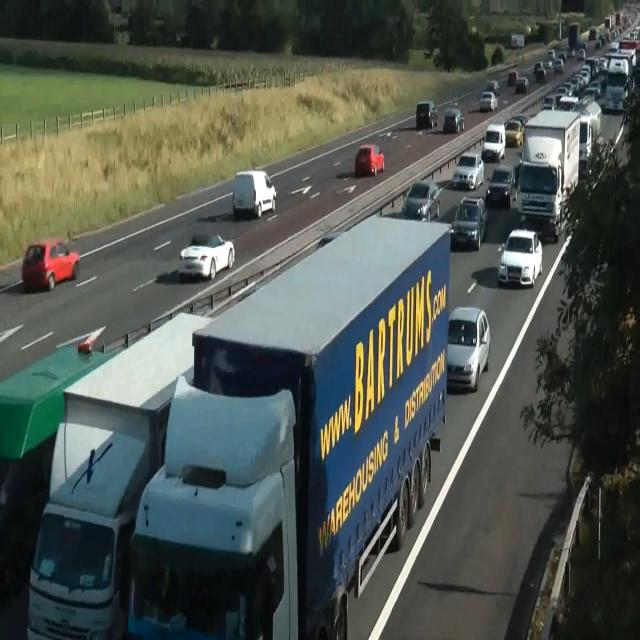bus: (446, 305, 491, 392), (22, 238, 80, 292), (178, 233, 235, 281), (498, 228, 542, 288), (449, 196, 487, 250), (401, 180, 440, 222), (452, 152, 484, 190), (354, 144, 384, 176), (443, 108, 465, 134), (479, 91, 498, 112), (514, 147, 524, 185), (511, 113, 527, 130), (541, 94, 557, 110), (515, 76, 529, 94), (486, 80, 500, 95), (553, 58, 563, 73), (588, 26, 596, 40), (577, 49, 585, 60)
car: (25, 211, 451, 638), (26, 310, 213, 638), (0, 323, 128, 461)
jeep: (232, 169, 276, 219), (486, 165, 516, 207), (482, 122, 506, 162), (416, 99, 438, 129), (504, 118, 523, 148)
minibus: (516, 108, 580, 242)
